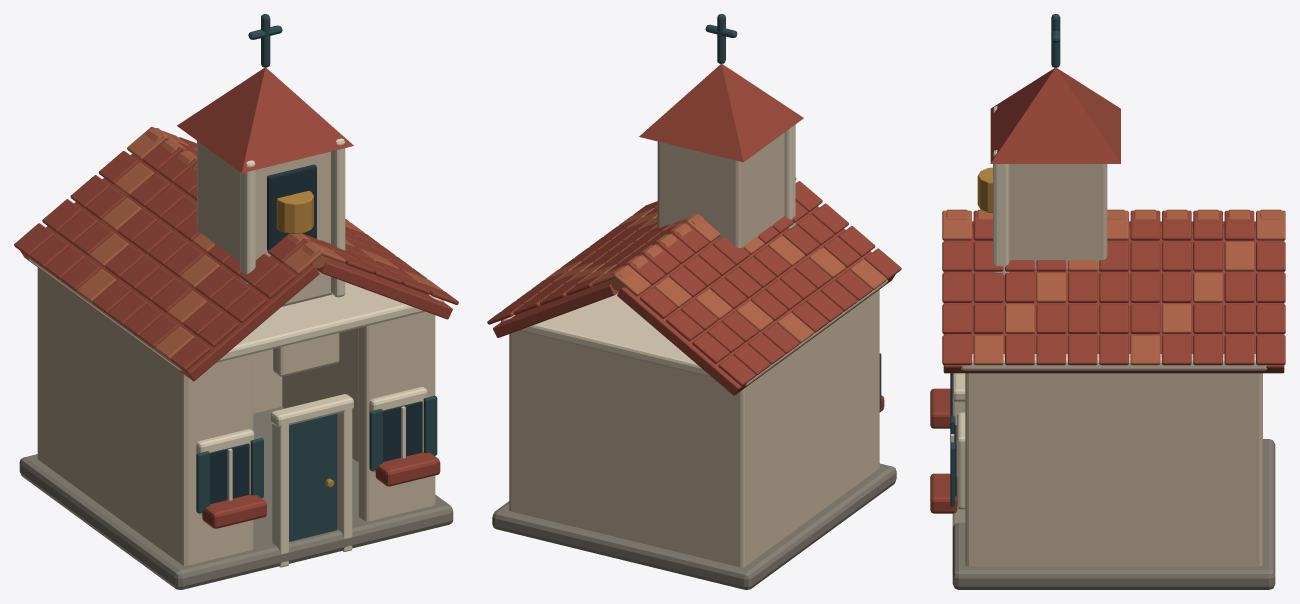
Rendered from iglesia_runtime.glb.
3 renders of one model, left to right at view 1: azimuth 30°, elevation 25°; view 2: azimuth 150°, elevation 25°; view 3: azimuth 270°, elevation 25°, orthographic. The views are drawn at different scales.
Parts seen in each view (by area): view 1: Walls_BakedPalette.005, Roof_BakedPalette.005, BellTower_BakedPalette.005, Details.001, Foundation_BakedPalette.005, OpeningDoor; view 2: Walls_BakedPalette.005, Roof_BakedPalette.005, BellTower_BakedPalette.005, Foundation_BakedPalette.005; view 3: Walls_BakedPalette.005, Roof_BakedPalette.005, BellTower_BakedPalette.005, Foundation_BakedPalette.005, Details.001.
Boxes of the visible parts, x1,y1,x2,y2 form: Walls_BakedPalette.005: (28, 257, 444, 565); Roof_BakedPalette.005: (14, 126, 458, 381); BellTower_BakedPalette.005: (177, 14, 353, 306); Details.001: (196, 387, 440, 567); Foundation_BakedPalette.005: (19, 407, 453, 589); OpeningDoor: (289, 414, 335, 541); Walls_BakedPalette.005: (501, 279, 887, 567); Roof_BakedPalette.005: (487, 177, 901, 395); BellTower_BakedPalette.005: (639, 14, 803, 247); Foundation_BakedPalette.005: (492, 463, 896, 589); Walls_BakedPalette.005: (961, 354, 1267, 566); Roof_BakedPalette.005: (942, 209, 1285, 373); BellTower_BakedPalette.005: (977, 14, 1120, 275); Foundation_BakedPalette.005: (952, 439, 1275, 589); Details.001: (930, 373, 965, 526).
Size of the model in its own units: 3.6 by 6.27 by 3.96.
